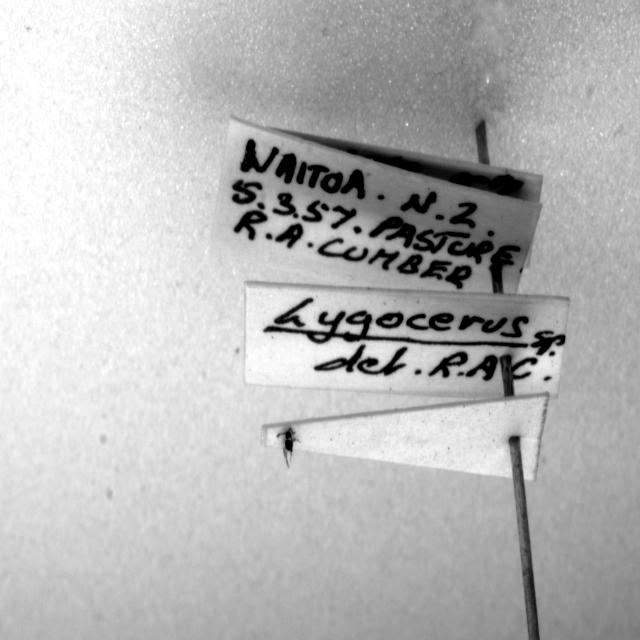hand_label: (211, 116, 542, 294), (244, 283, 569, 398)
